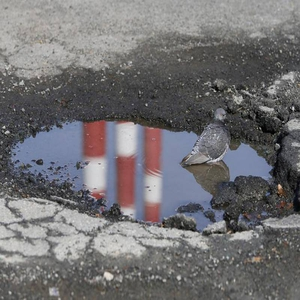pothole: (1, 95, 297, 226)
